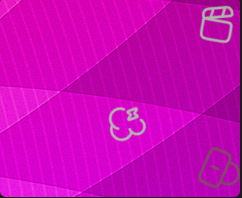cloud: (105, 101, 151, 145)
lock: (194, 145, 240, 192)
video: (196, 3, 238, 46)
